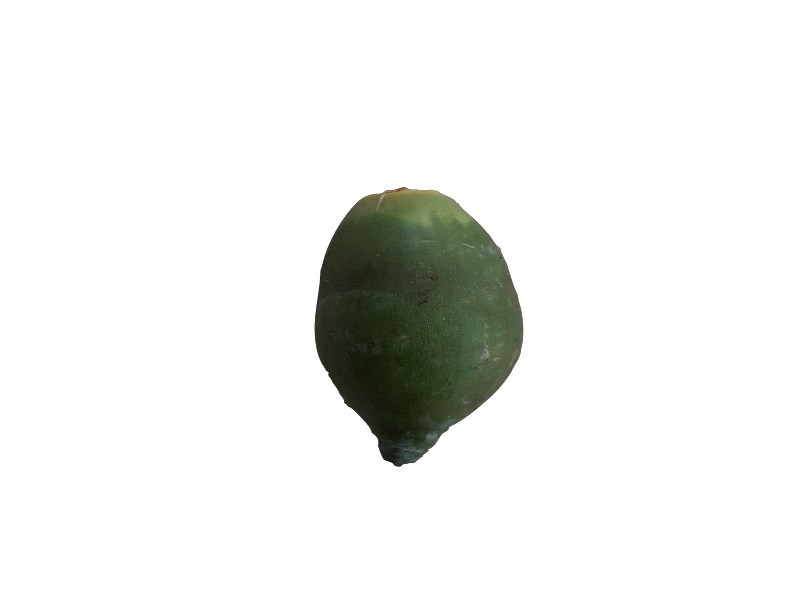arecanut: (303, 184, 538, 477)
